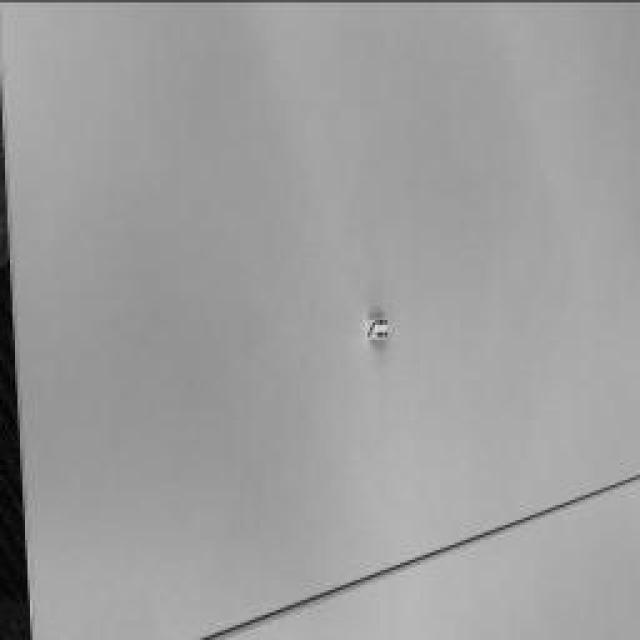dice_6: (375, 318, 387, 338)
